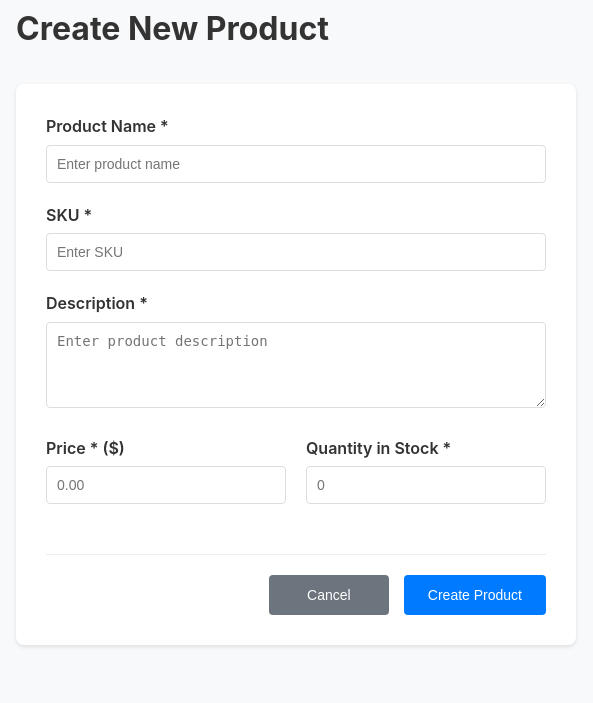
Test: ProductForm › should show price validation error for negative values
The image size is (593, 703).
Fill required fields
Type "Test Product" into the field with test id "product-name-input" at (296, 164), box [46, 145, 546, 183]
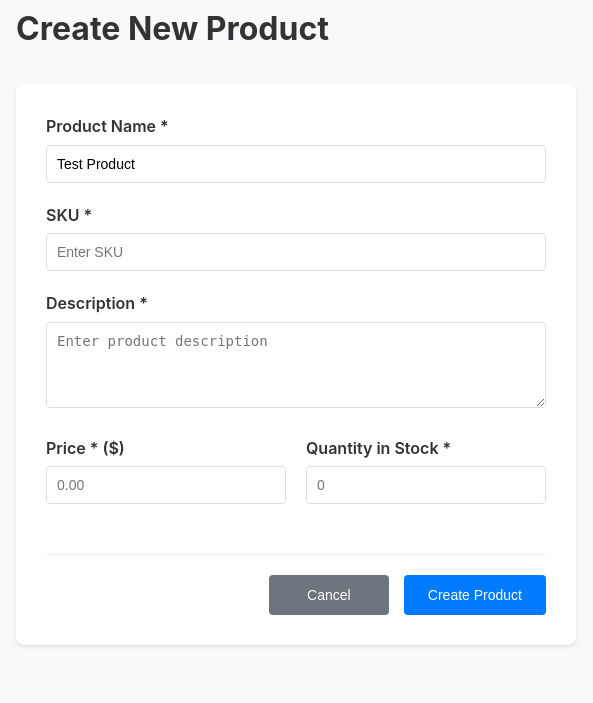
Type "TEST-001" into the field with test id "product-sku-input" at (296, 252), box [46, 233, 546, 271]
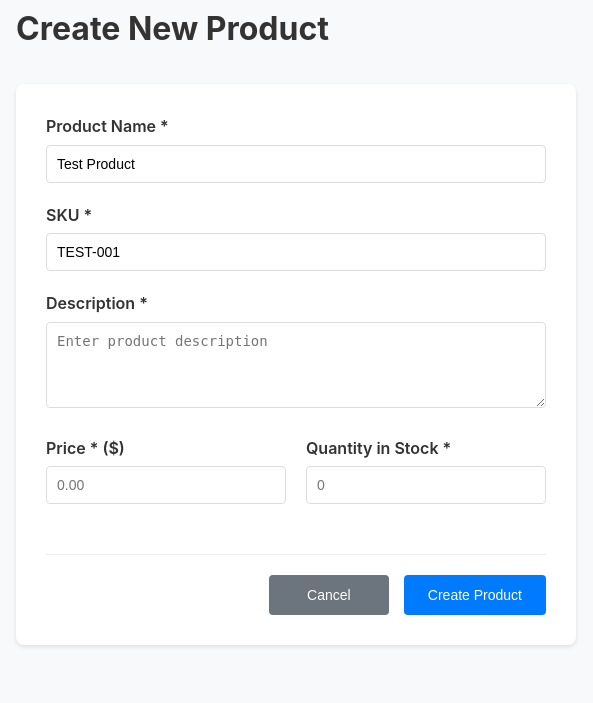
Type "Test description" into the text box with test id "product-description-input" at (296, 365), box [46, 322, 546, 408]
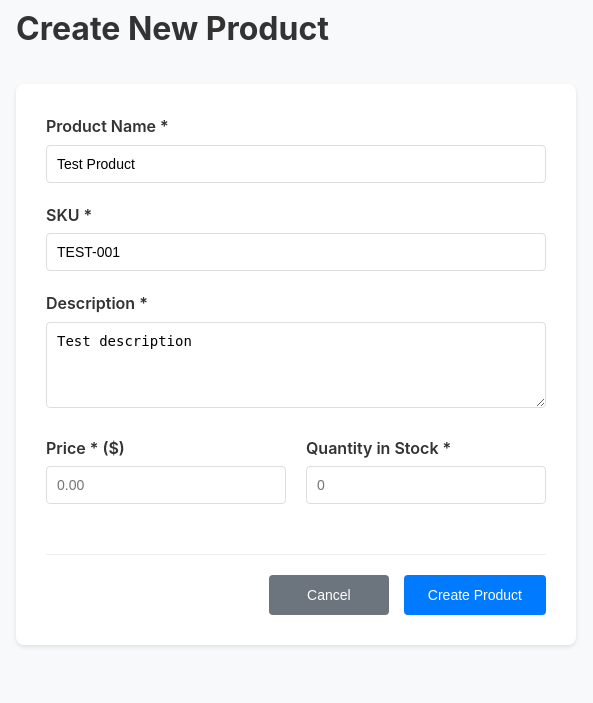
Enter negative price
Type "-10" into the number field with test id "product-price-input" at (166, 485), box [46, 466, 286, 504]
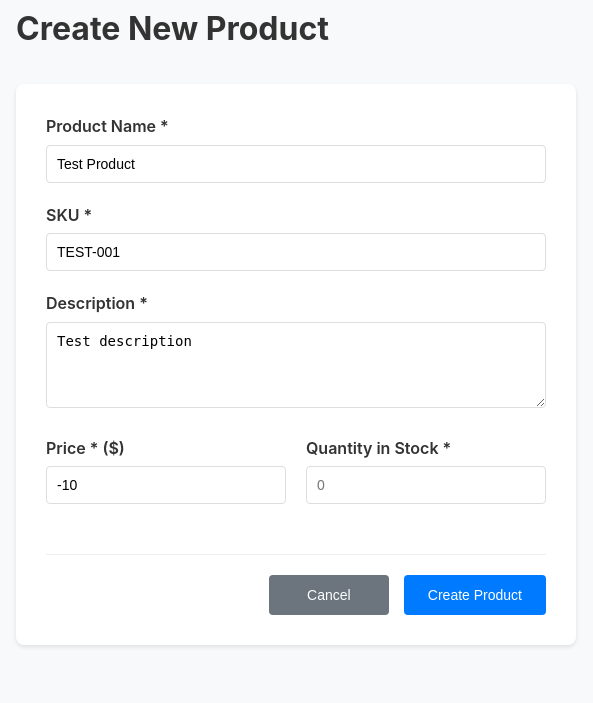
Click the button with test id "submit-btn" at (475, 595), box [404, 575, 546, 615]
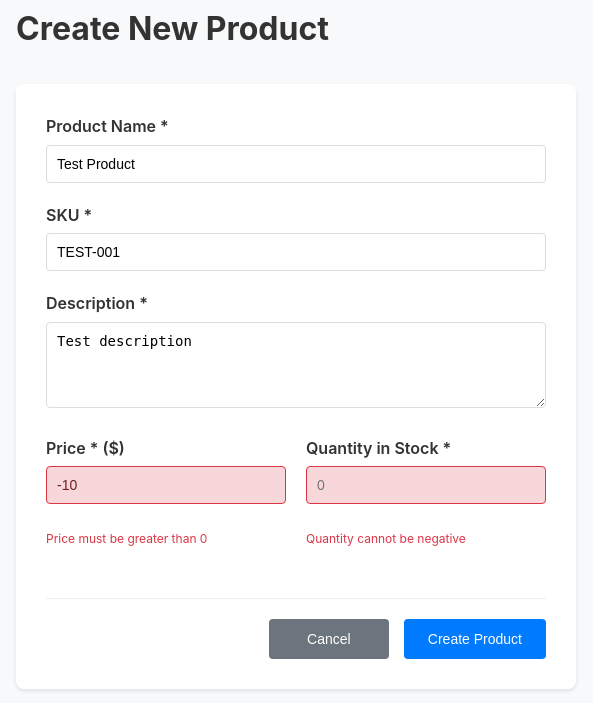
Expected: the text with test id "price-error" reads "Price must be greater than 0", [46, 531, 207, 546]
